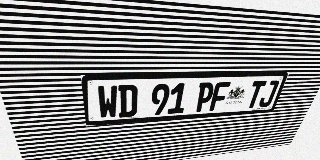1: (167, 83, 188, 114)
9: (150, 83, 171, 115)
D: (118, 84, 138, 118)
F: (209, 82, 231, 111)
J: (257, 80, 280, 107)
P: (194, 82, 215, 112)
T: (245, 81, 267, 108)
W: (97, 85, 118, 119)
